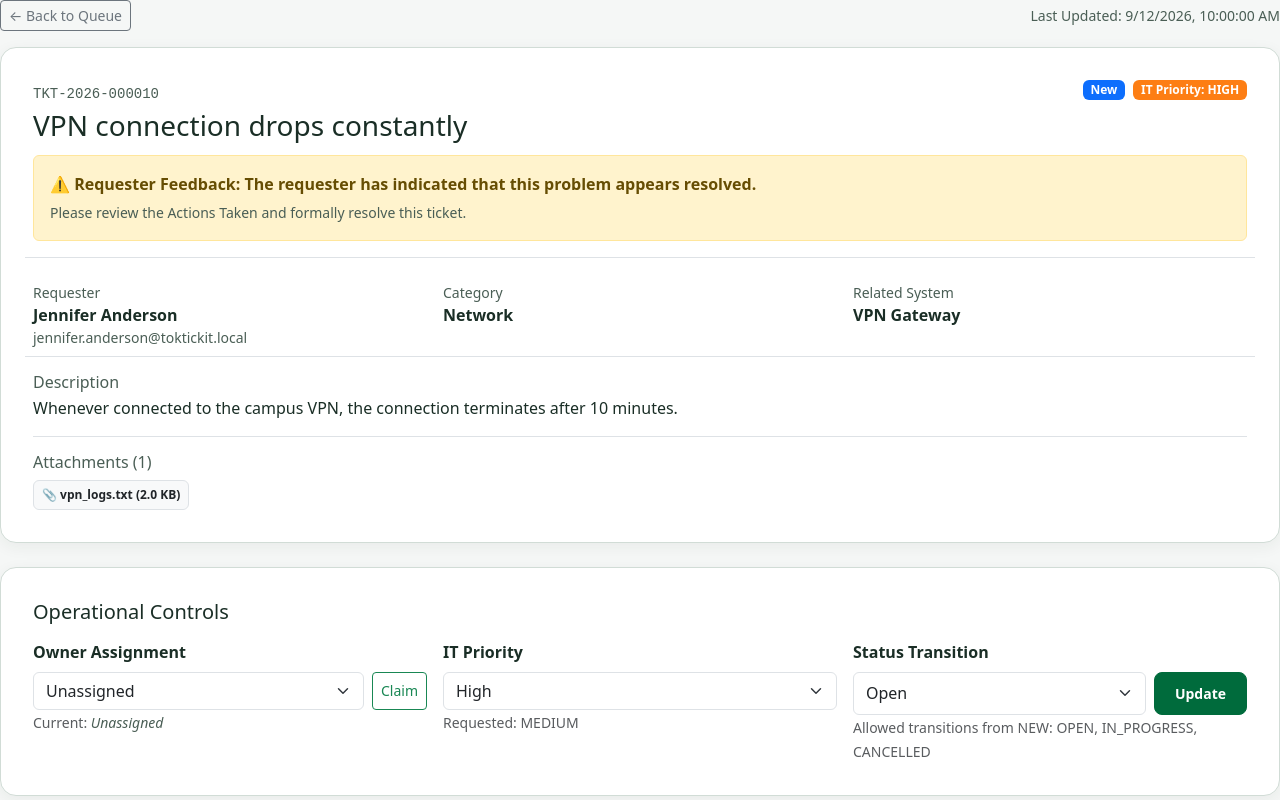
Work Item 6: StaffTicketDetail Component (UI-04) › renders claim ticket button for unassigned ticket and handles claiming
Click the button with aria-label "claim ticket" at (400, 691), box [372,672,427,710]
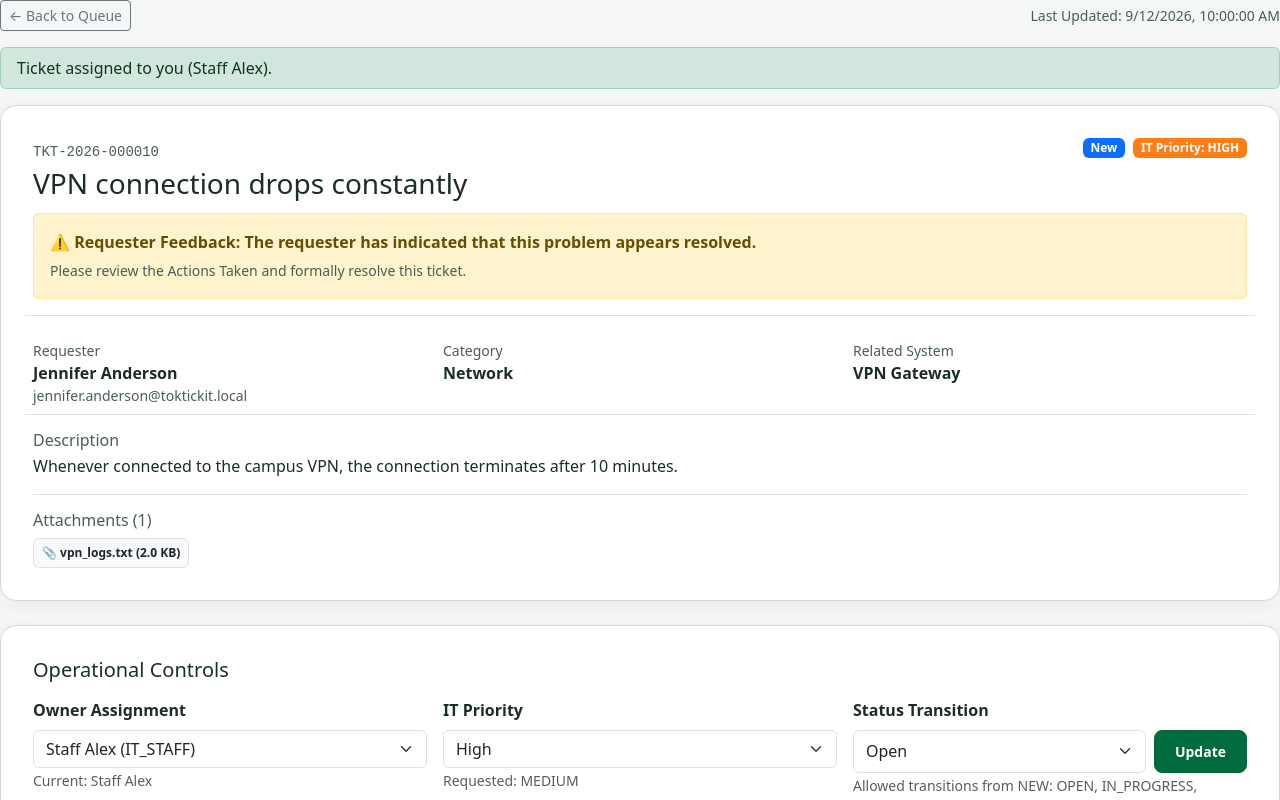
Expected: the text "Ticket assigned to you (Staff Alex)." is shown, [0,47,1279,89]
